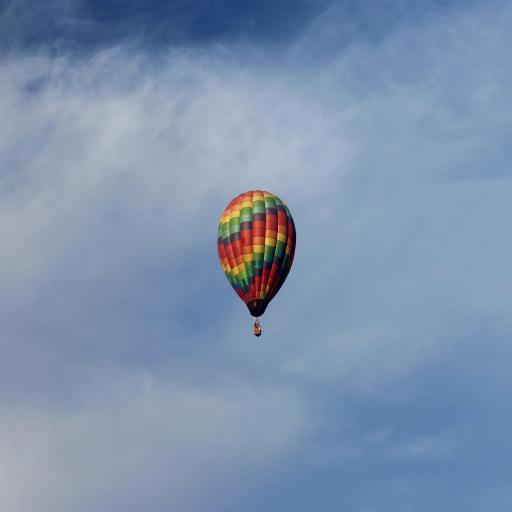hot air ballon: (218, 191, 296, 338)
